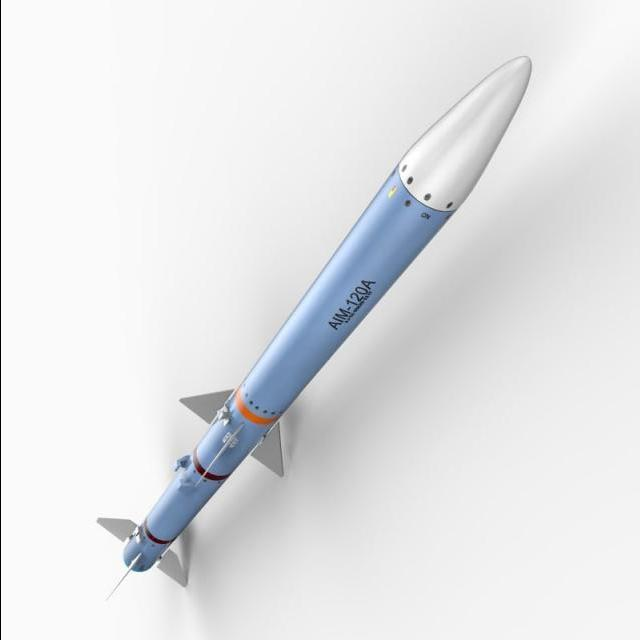Missile: (74, 57, 571, 622)
